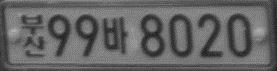0: (225, 12, 252, 58), (167, 13, 194, 58)
2: (196, 13, 223, 58)
8: (139, 12, 165, 58)
9: (74, 13, 99, 57), (46, 14, 71, 57)
바: (102, 16, 129, 54)
부산_V: (20, 13, 45, 58)
